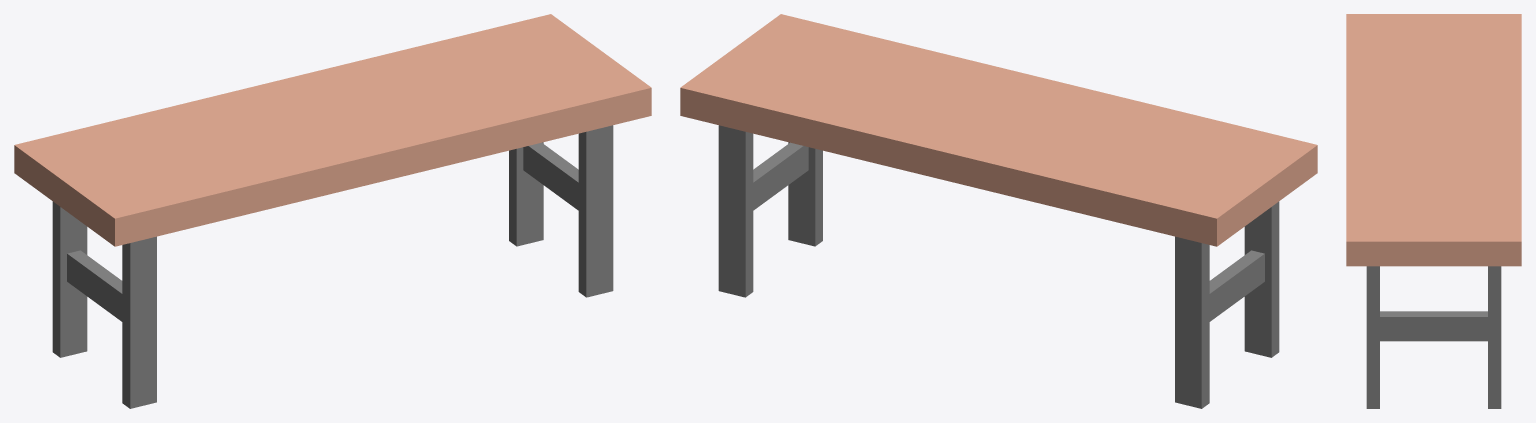
The model's file is Table.fbx.
3 views of the same model, side by side, from view 1: azimuth 30°, elevation 25°; view 2: azimuth 150°, elevation 25°; view 3: azimuth 270°, elevation 25° (orthographic). The views are drawn at different scales.
Parts seen in each view (by area): view 1: furniture_table; view 2: furniture_table; view 3: furniture_table.
Part boxes in pixels (left/top/right/bottom): furniture_table: left=14, top=14, right=651, bottom=408; furniture_table: left=680, top=14, right=1317, bottom=408; furniture_table: left=1346, top=14, right=1521, bottom=408.
Size of the model in its own units: 200 by 73.1 by 65.
